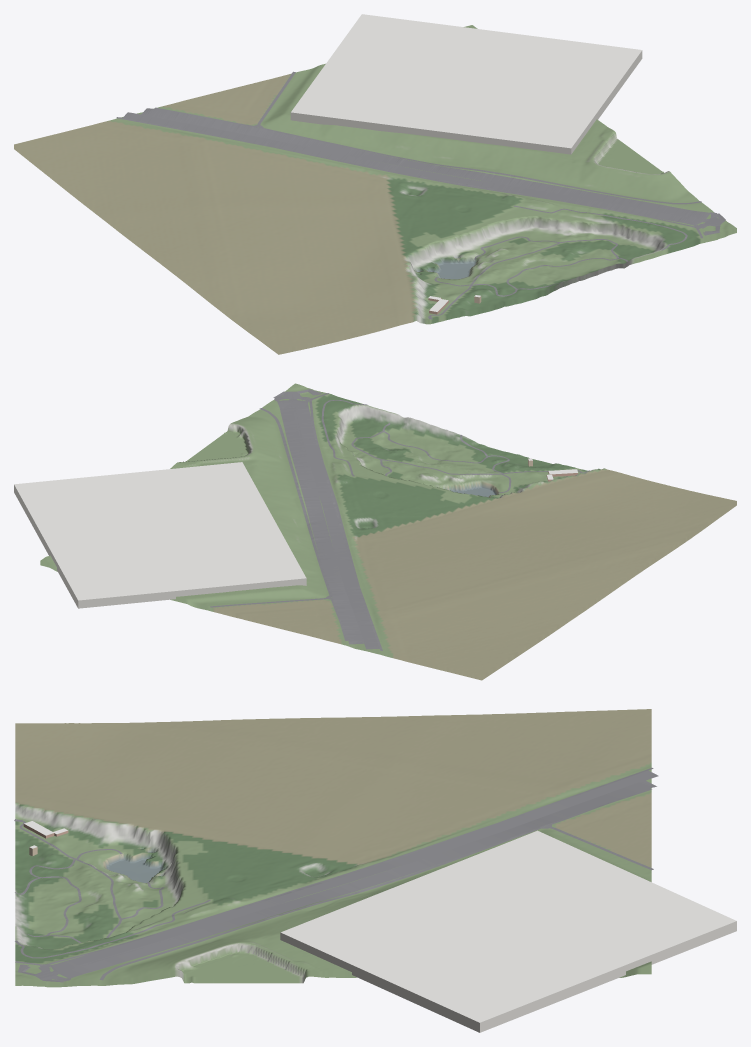
3 renders of one model, top to bottom at view 1: azimuth 30°, elevation 25°; view 2: azimuth 150°, elevation 25°; view 3: azimuth 270°, elevation 25°, orthographic. The views are drawn at different scales.
Visible parts, largest first — view 1: prim0, prim1, prim2; view 2: prim0, prim1, prim2; view 3: prim0, prim1, prim2.
Boxes of the visible parts, x1,y1,x2,y2 form: prim0: [14, 25, 736, 354]; prim1: [290, 14, 642, 314]; prim2: [116, 71, 725, 319]; prim0: [40, 383, 736, 680]; prim1: [14, 458, 578, 608]; prim2: [210, 389, 590, 650]; prim0: [15, 709, 651, 987]; prim1: [23, 821, 736, 1032]; prim2: [14, 768, 658, 982].
Size of the model in its own units: 622 by 38.79 by 582.
